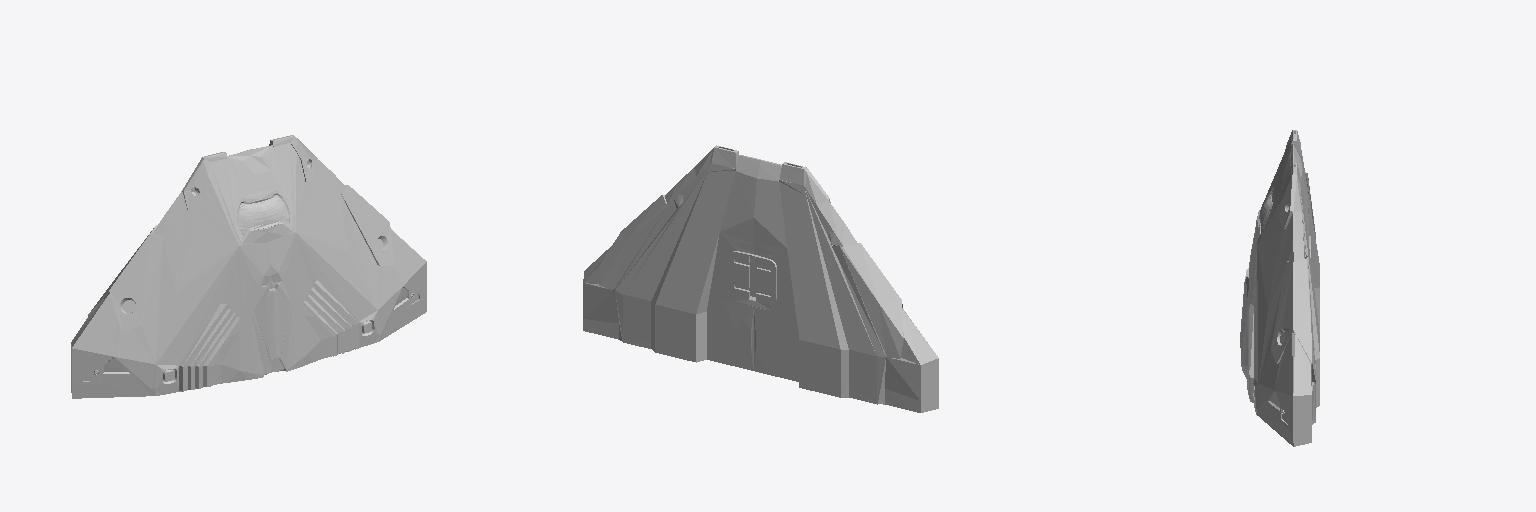
The model's file is cobra.obj.
The picture shows the model from 3 angles: view 1: azimuth 30°, elevation 25°; view 2: azimuth 150°, elevation 25°; view 3: azimuth 270°, elevation 25°; orthographic projection.
Parts seen in each view (by area): view 1: <STL_BINARY>; view 2: <STL_BINARY>; view 3: <STL_BINARY>.
Boxes of the visible parts, x1,y1,x2,y2 form: <STL_BINARY>: [71, 135, 426, 398]; <STL_BINARY>: [583, 145, 938, 412]; <STL_BINARY>: [1240, 130, 1319, 446].
Size of the model in its own units: 70.6 by 39.69 by 13.9.